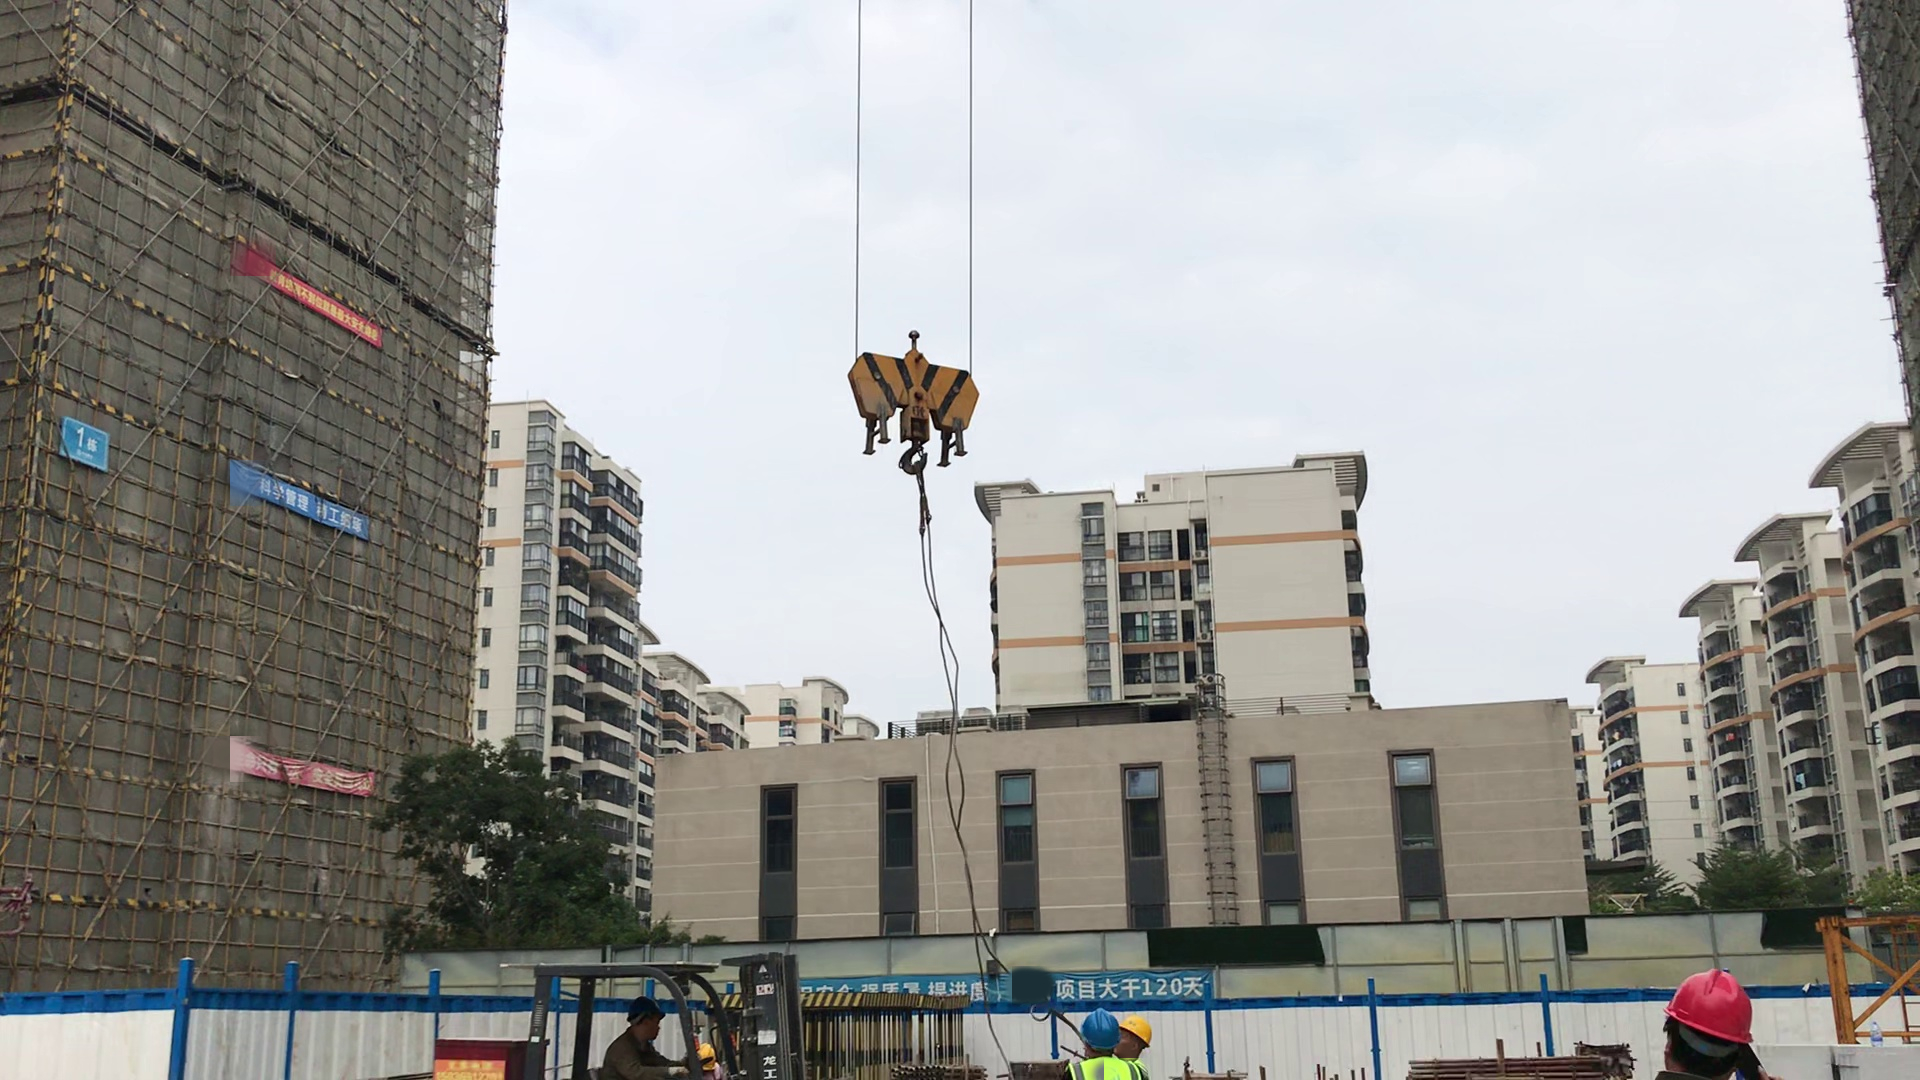helmet: (1658, 957, 1747, 1047), (1123, 1011, 1164, 1054), (1079, 1003, 1115, 1049), (622, 991, 666, 1028)
hook: (835, 319, 978, 468)
person: (1638, 959, 1776, 1080), (592, 991, 687, 1080), (1077, 998, 1112, 1080), (1123, 1007, 1158, 1080)
slogan: (821, 954, 1213, 1005), (244, 460, 371, 538), (271, 272, 393, 343), (237, 741, 376, 793)
vest: (1066, 1056, 1140, 1080)
